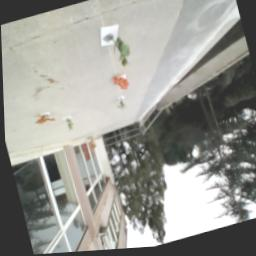herb: (111, 35, 136, 72), (116, 100, 127, 113), (65, 119, 75, 133)
wild: (110, 75, 132, 96), (34, 113, 57, 129)
